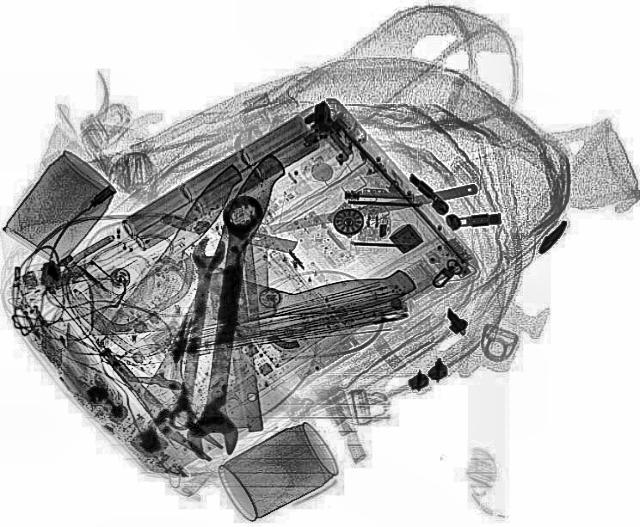Knife: (72, 222, 418, 346), (133, 150, 291, 406), (103, 161, 251, 327)
Wrench: (189, 192, 261, 460), (165, 236, 221, 430)
